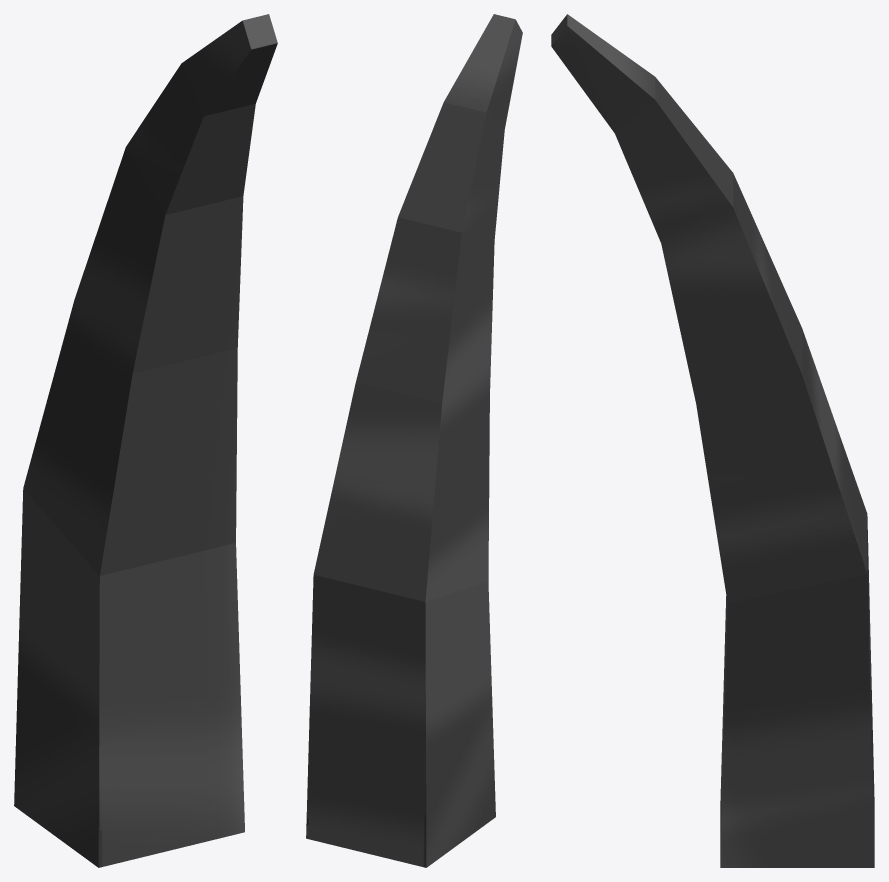
Rendered from pillar.fbx.
The picture shows the model from 3 angles, left to right: view 1: azimuth 30°, elevation 25°; view 2: azimuth 150°, elevation 25°; view 3: azimuth 270°, elevation 25°; orthographic projection. The views are drawn at different scales.
Visible parts, largest first — view 1: Cube; view 2: Cube; view 3: Cube.
Part boxes in pixels (left/top/right/bottom): Cube: left=14, top=14, right=277, bottom=867; Cube: left=306, top=14, right=522, bottom=867; Cube: left=551, top=14, right=874, bottom=867.
Bounding box in the file's own units: 200 × 1167 × 419.
